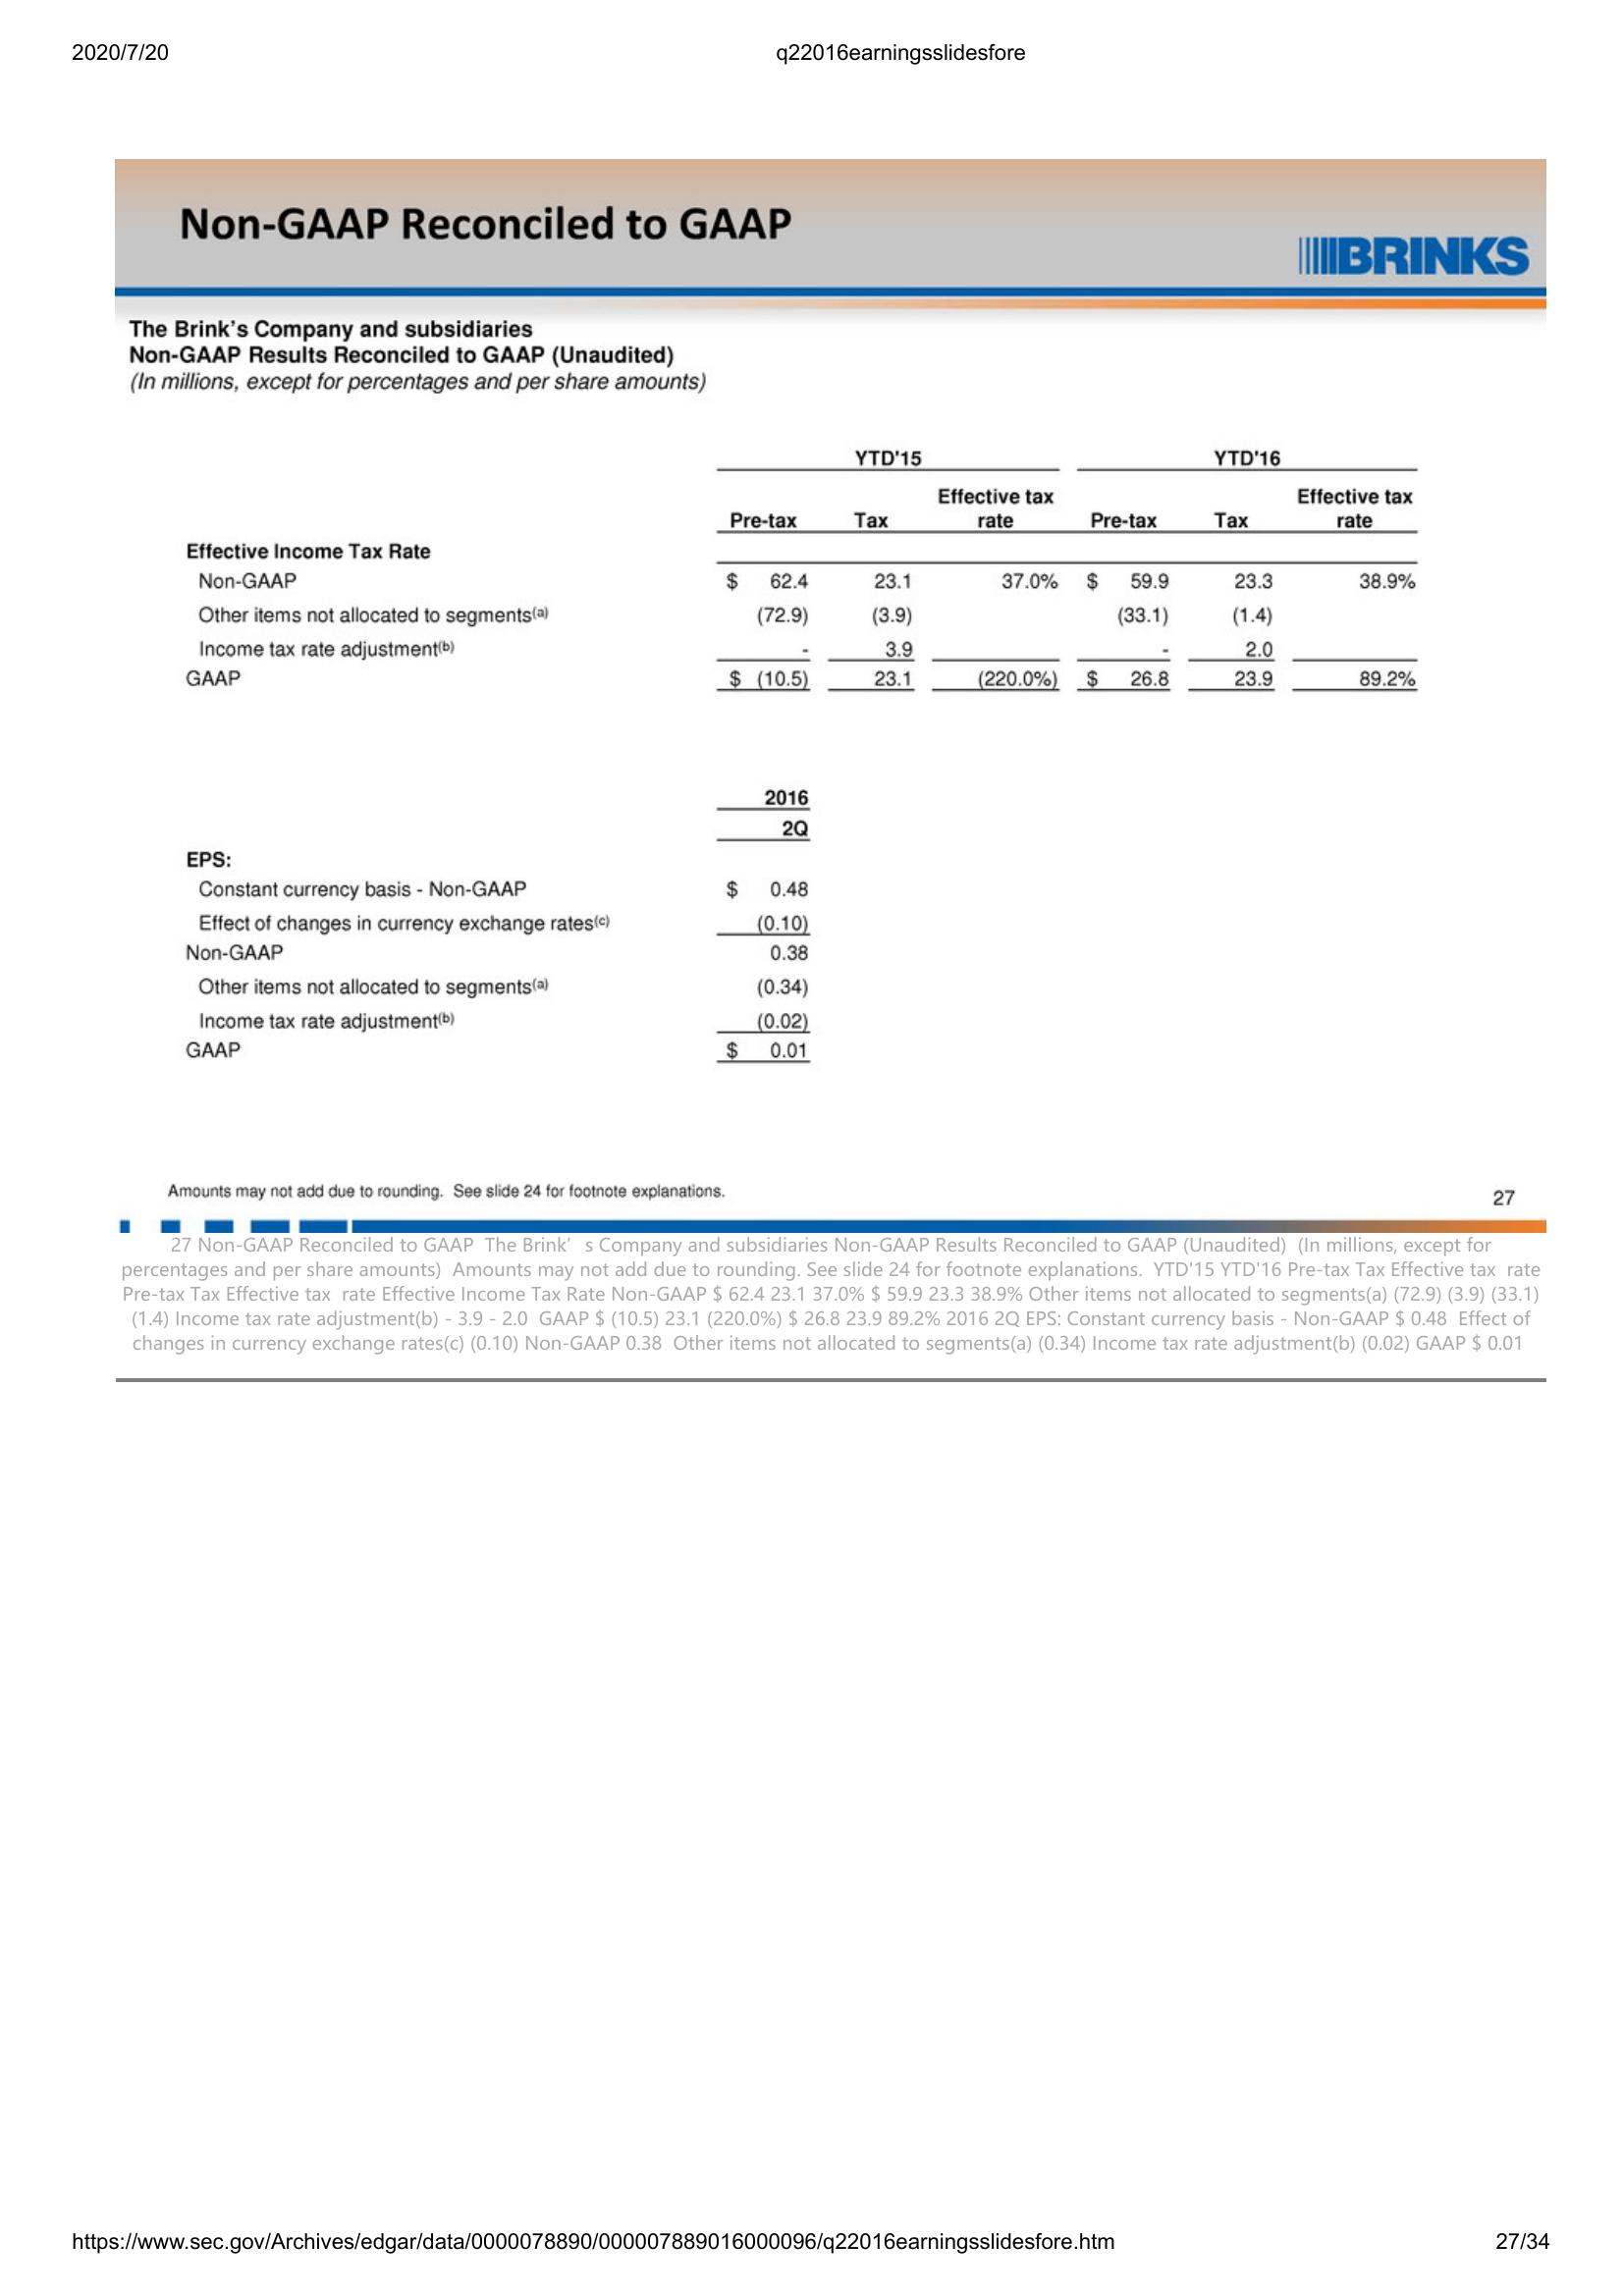table: (184, 441, 1421, 702), (177, 779, 820, 1085)
